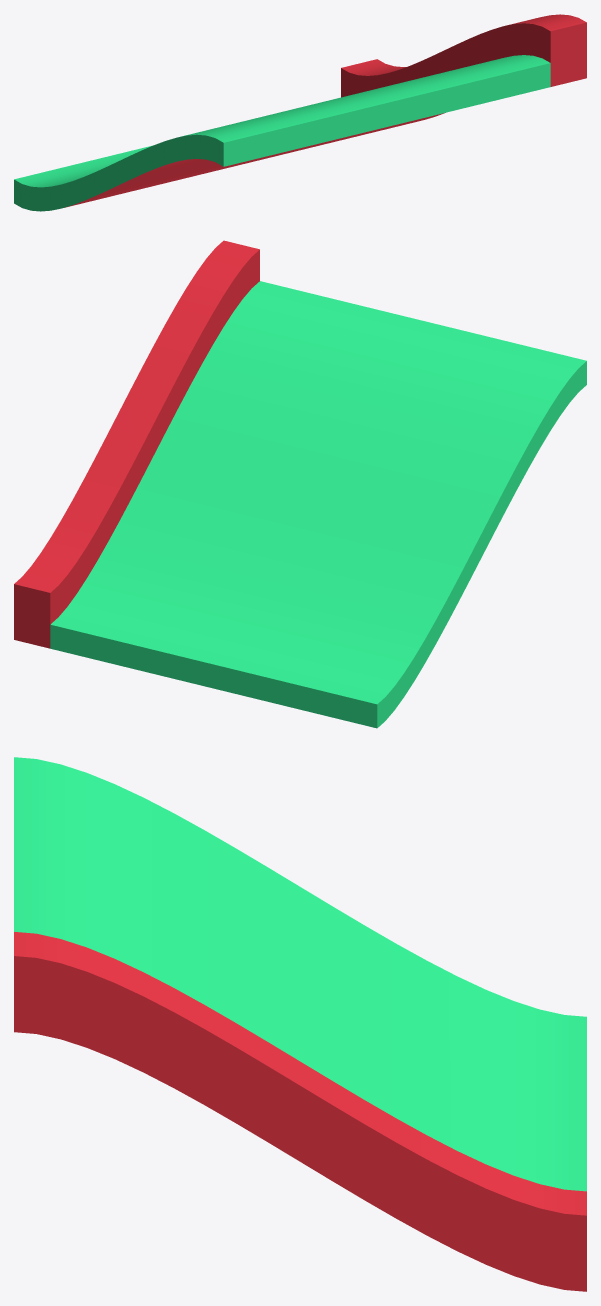
The model's file is rampSide.fbx.
The picture shows the model from 3 angles, top to bottom: view 1: azimuth 30°, elevation 25°; view 2: azimuth 150°, elevation 25°; view 3: azimuth 270°, elevation 25°; orthographic projection. The views are drawn at different scales.
Parts seen in each view (by area): view 1: rampSide; view 2: rampSide; view 3: rampSide.
Boxes of the visible parts, bbox=[...] form: rampSide: bbox=[14, 14, 586, 211]; rampSide: bbox=[14, 240, 586, 728]; rampSide: bbox=[14, 757, 586, 1291].
Bounding box in the file's own units: 10 × 6.47 × 10.
